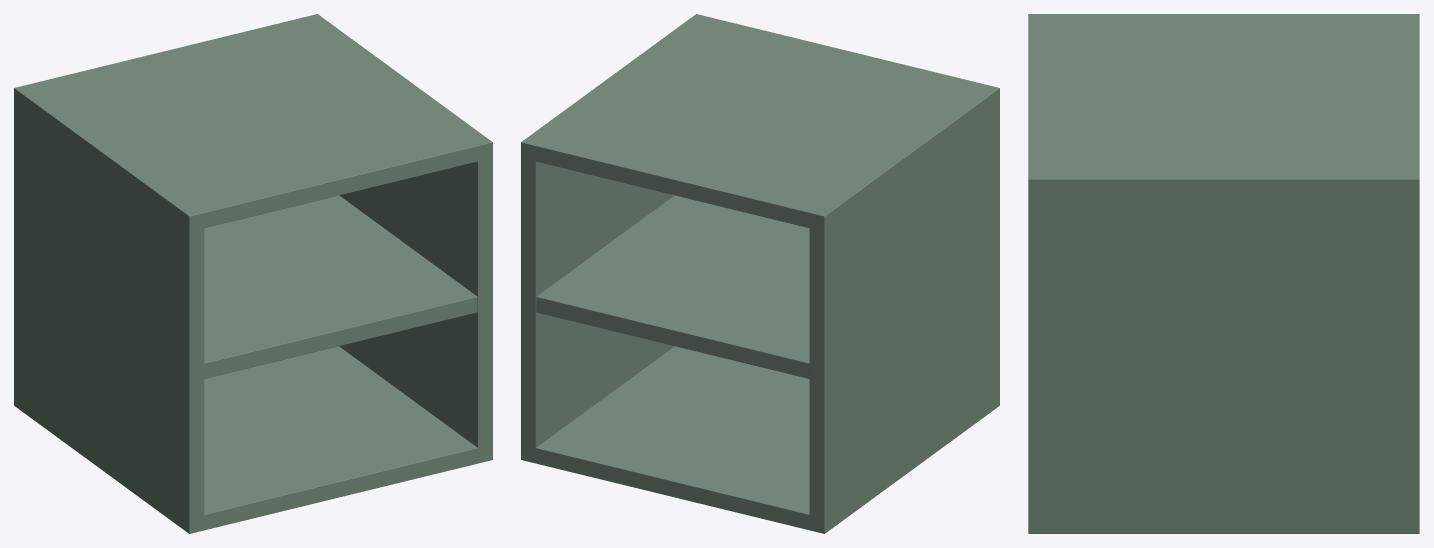
Rendered from MOD_1X1_S_O_VA.glb.
The picture shows the model from 3 angles, left to right: view 1: azimuth 30°, elevation 25°; view 2: azimuth 150°, elevation 25°; view 3: azimuth 270°, elevation 25°; orthographic projection. The views are drawn at different scales.
Bounding box in the file's own units: 360 × 360 × 360.
